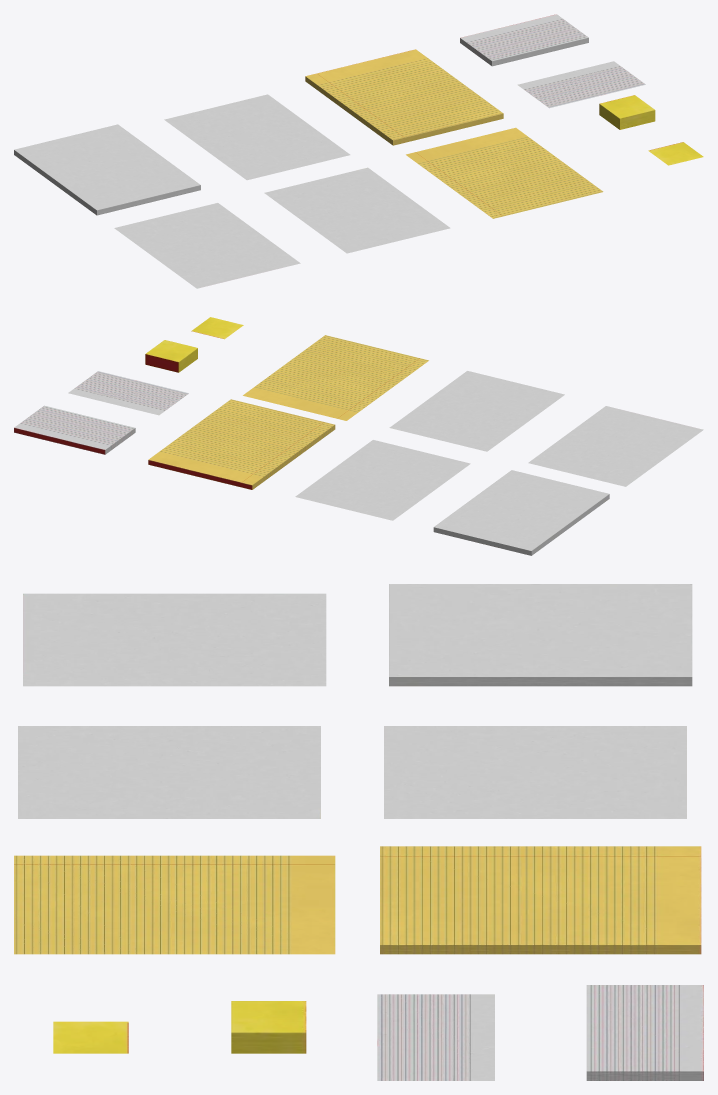
Rendered from office_notepads.glb.
3 renders of one model, top to bottom at view 1: azimuth 30°, elevation 25°; view 2: azimuth 150°, elevation 25°; view 3: azimuth 270°, elevation 25°, orthographic. The views are drawn at different scales.
Visible parts, largest first — view 1: office_notepads_yellow_sheet; view 2: office_notepads_yellow_sheet; view 3: office_notepads_yellow_sheet.
Part boxes in pixels (x1,y1,x2,y2): office_notepads_yellow_sheet: [14, 14, 703, 288]; office_notepads_yellow_sheet: [14, 317, 703, 555]; office_notepads_yellow_sheet: [14, 584, 703, 1080].
Bounding box in the file's own units: 1.1 × 0.0219 × 0.6598.
Materials: 1 (1 with a texture image).
